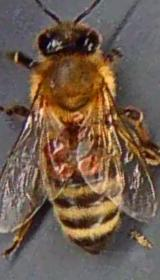varroa_mite: (33, 144, 84, 188), (26, 127, 80, 166), (72, 148, 103, 176)
